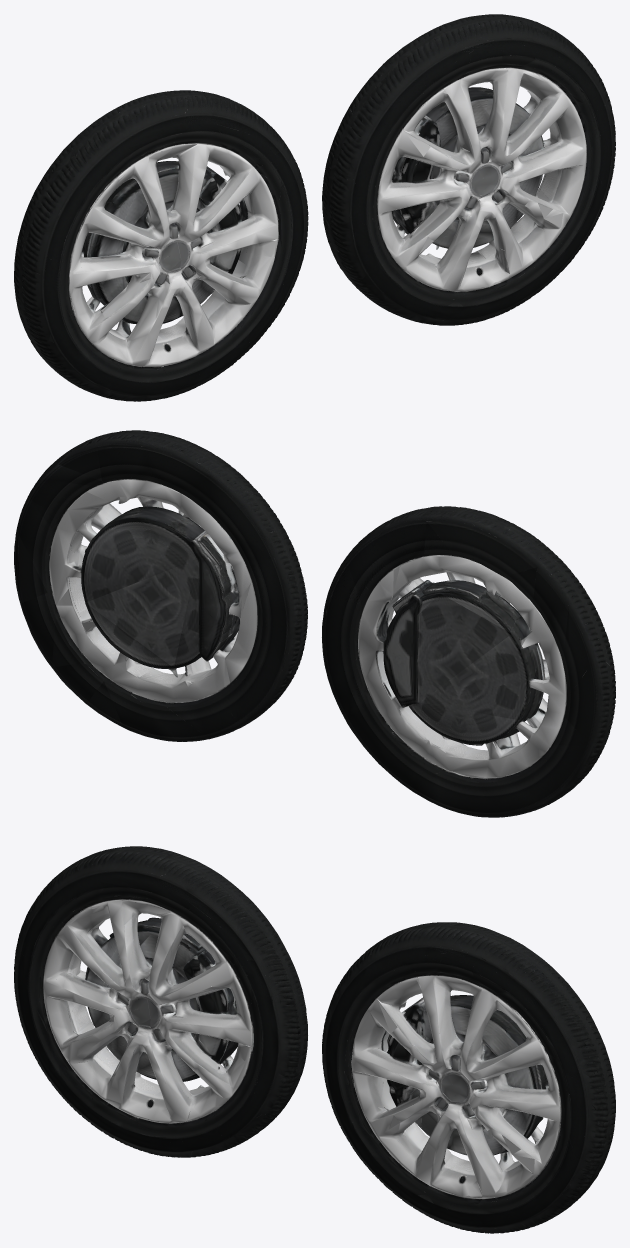
The model's file is 3_wheels.glb.
3 views of the same model, one above another, from view 1: azimuth 30°, elevation 25°; view 2: azimuth 150°, elevation 25°; view 3: azimuth 330°, elevation 25° (orthographic).
Visible parts, largest first — view 1: Mesh_0; view 2: Mesh_0; view 3: Mesh_0.
Boxes of the visible parts, bbox=[...] form: Mesh_0: bbox=[14, 14, 615, 401]; Mesh_0: bbox=[14, 430, 615, 817]; Mesh_0: bbox=[14, 846, 615, 1233].
Size of the model in its own units: 1.35 by 0.65 by 0.1227.
Materials: 1 (1 with a texture image).
